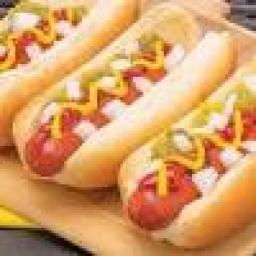hotdog: (13, 4, 237, 192), (120, 64, 256, 253)
